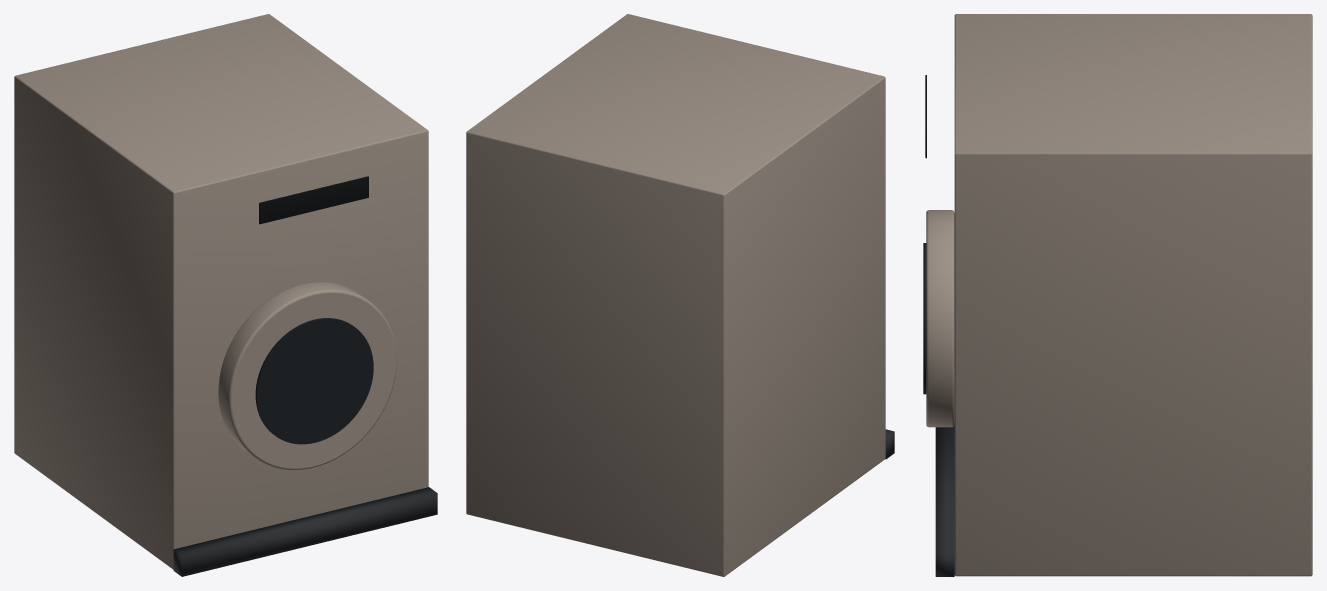
The model's file is RD25TSR.glb.
3 views of the same model, side by side, from view 1: azimuth 30°, elevation 25°; view 2: azimuth 150°, elevation 25°; view 3: azimuth 270°, elevation 25° (orthographic). The views are drawn at different scales.
Parts seen in each view (by area): view 1: RD25TSR; view 2: RD25TSR; view 3: RD25TSR.
Boxes of the visible parts, box(x1,y1,x2,y2) form: RD25TSR: box(14, 14, 437, 576); RD25TSR: box(466, 14, 894, 576); RD25TSR: box(923, 14, 1312, 576).
Size of the model in its own units: 0.7 by 0.99 by 0.824.
